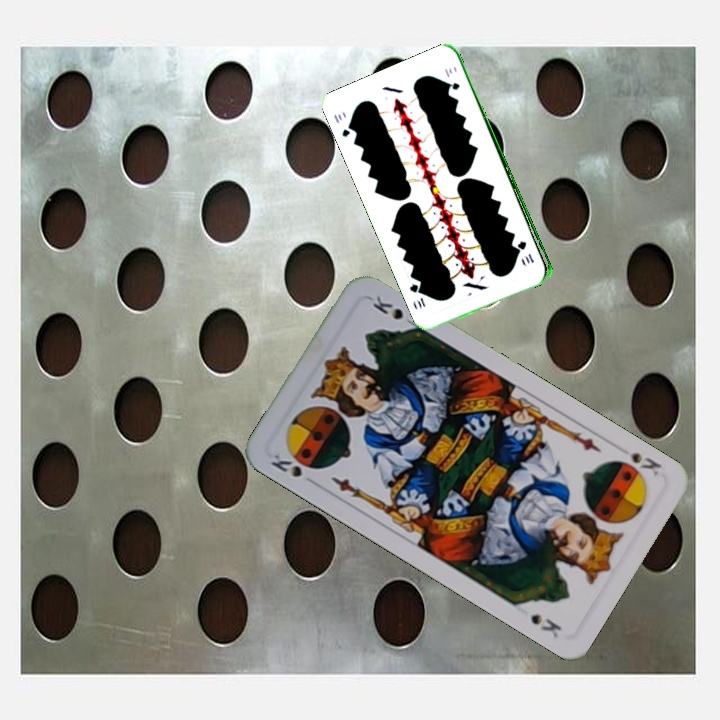G10: (330, 110, 357, 139), (515, 237, 537, 266)
SK: (610, 448, 665, 482), (266, 447, 305, 480)
